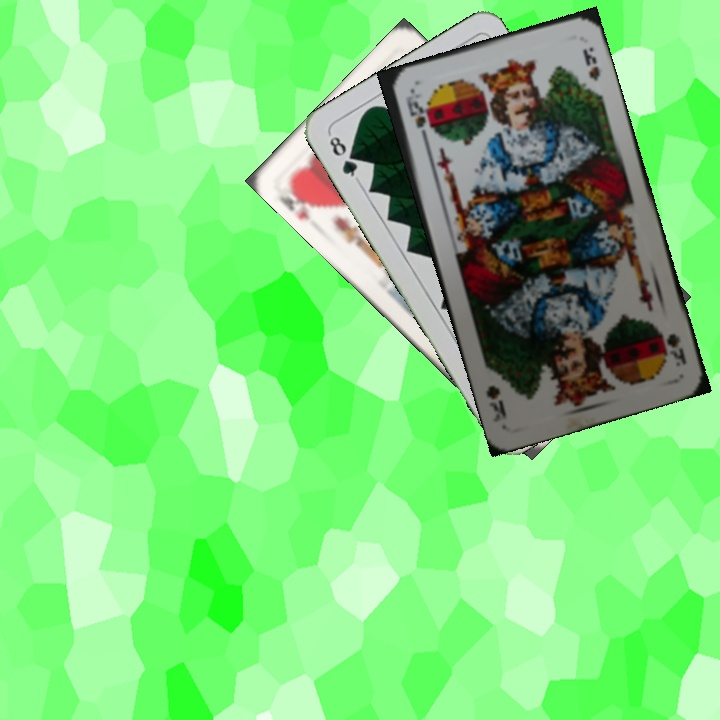G8: (325, 130, 362, 183)
HK: (275, 176, 323, 223)
SK: (401, 88, 431, 146), (656, 327, 689, 369)
